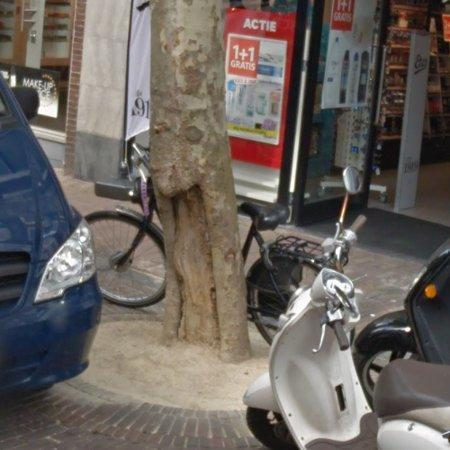bicycles: (240, 202, 360, 345), (85, 142, 165, 307)
